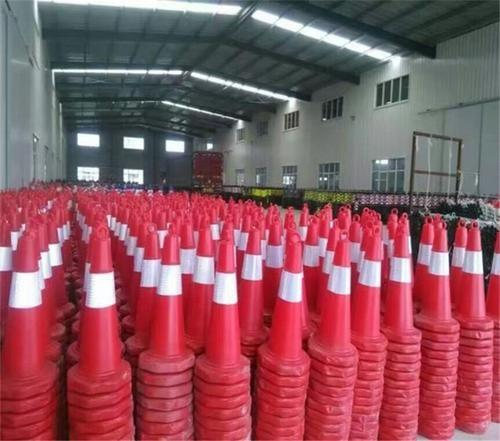cone_barrel: (69, 229, 126, 390), (135, 227, 191, 368), (3, 223, 51, 387), (198, 227, 244, 370), (262, 239, 304, 364), (312, 236, 354, 351), (187, 220, 216, 350), (420, 227, 452, 325), (455, 225, 487, 323), (351, 235, 380, 342), (384, 232, 414, 333), (237, 225, 263, 340)
